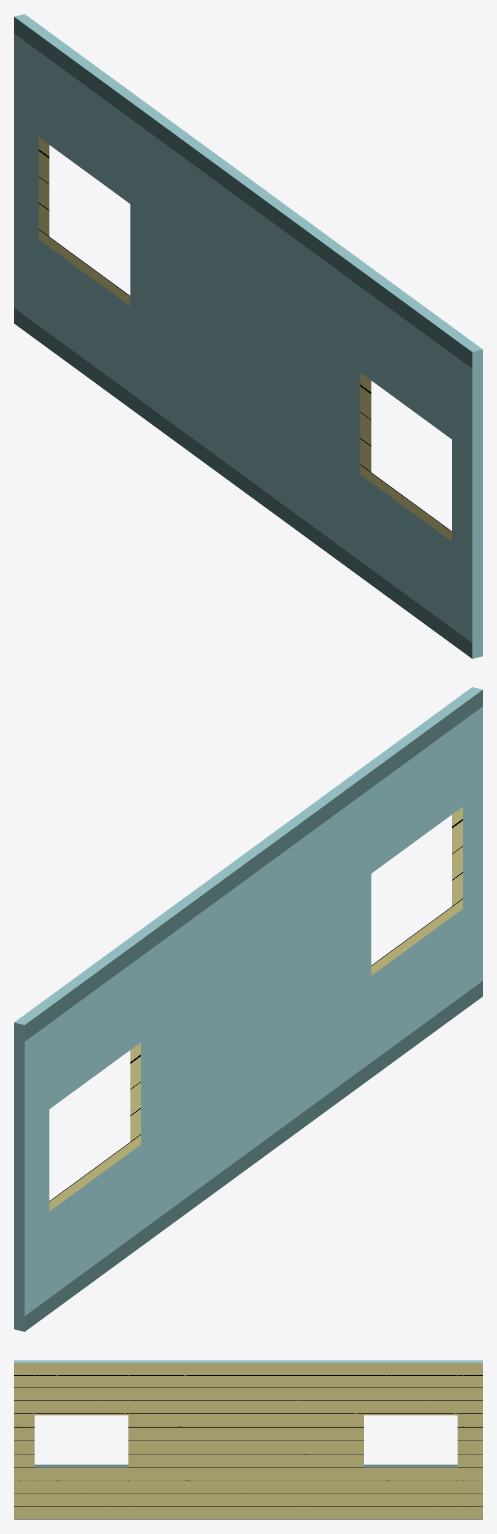
Rendered from paredsalader.obj.
3 renders of one model, top to bottom at view 1: azimuth 30°, elevation 25°; view 2: azimuth 150°, elevation 25°; view 3: azimuth 270°, elevation 25°, orthographic. The views are drawn at different scales.
Visible parts, largest first — view 1: pasted__pCube2 group; view 2: pasted__pCube2 group; view 3: pasted__pCube2 group.
Part boxes in pixels (x1,y1,x2,y2): pasted__pCube2 group: [14, 14, 482, 658]; pasted__pCube2 group: [14, 687, 482, 1331]; pasted__pCube2 group: [14, 1360, 482, 1519].
Size of the model in its own units: 0.1043 by 2.85 by 7.73.
2 materials, 2 textured.
